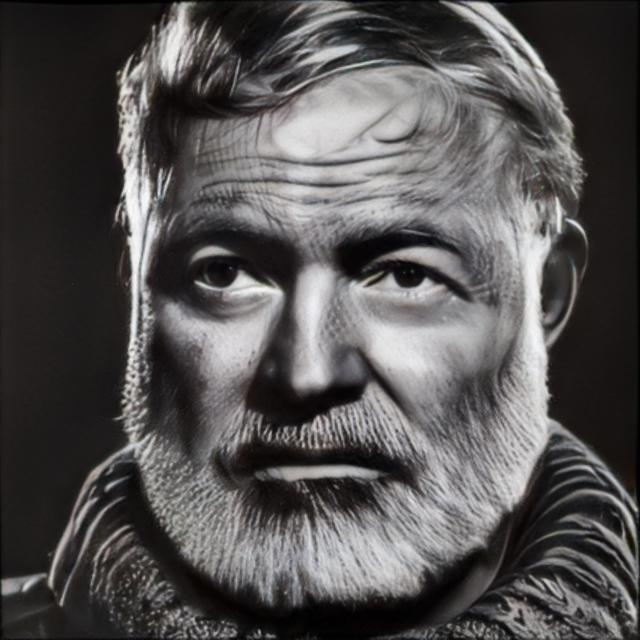neutral: (140, 41, 522, 548)
